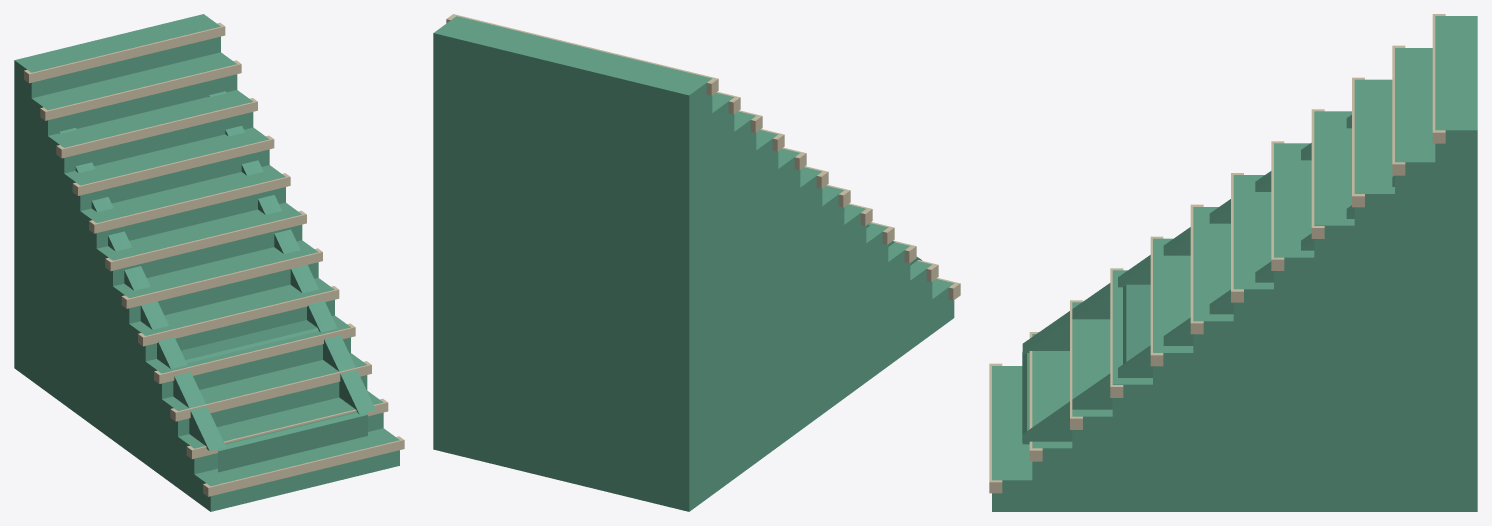
File: stairs-stone-mint.glb
3 views of the same model, side by side, from view 1: azimuth 30°, elevation 25°; view 2: azimuth 150°, elevation 25°; view 3: azimuth 270°, elevation 25° (orthographic). The views are drawn at different scales.
Parts seen in each view (by area): view 1: stairs-stone-mint; view 2: stairs-stone-mint; view 3: stairs-stone-mint.
Part boxes in pixels (x1=…): stairs-stone-mint: x1=14, y1=14, x2=404, y2=511; stairs-stone-mint: x1=433, y1=14, x2=960, y2=511; stairs-stone-mint: x1=989, y1=14, x2=1477, y2=511.
Size of the model in its own units: 1.95 by 2.92 by 3.39.
